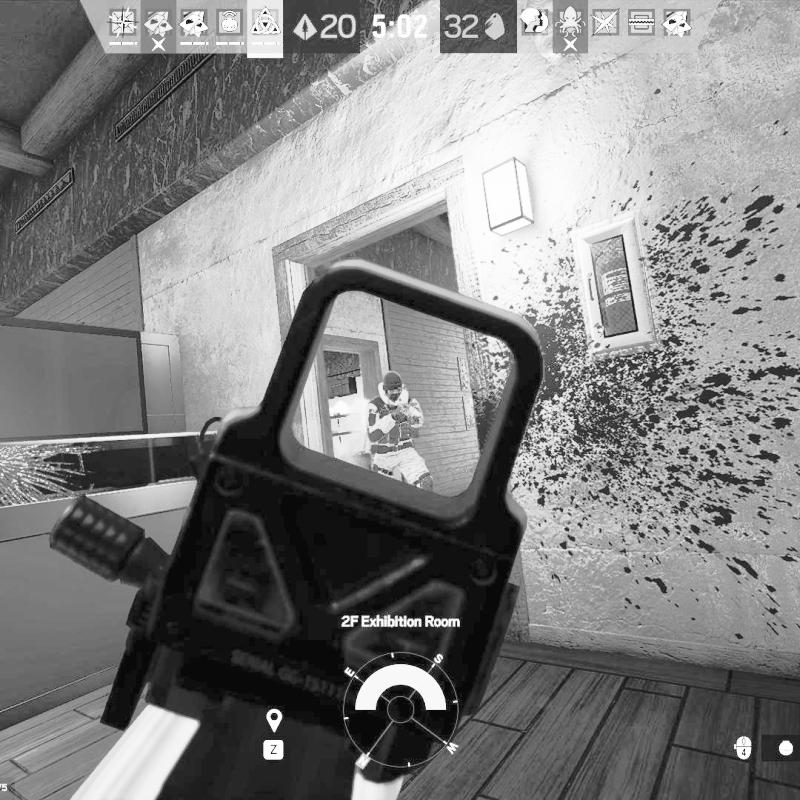Character: (362, 369, 434, 497)
Head: (378, 370, 406, 404)
